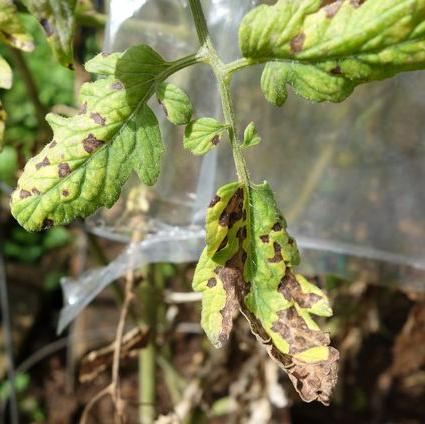Tomato Septoria leaf spot: (193, 174, 348, 420), (4, 41, 189, 238), (231, 1, 424, 108)
